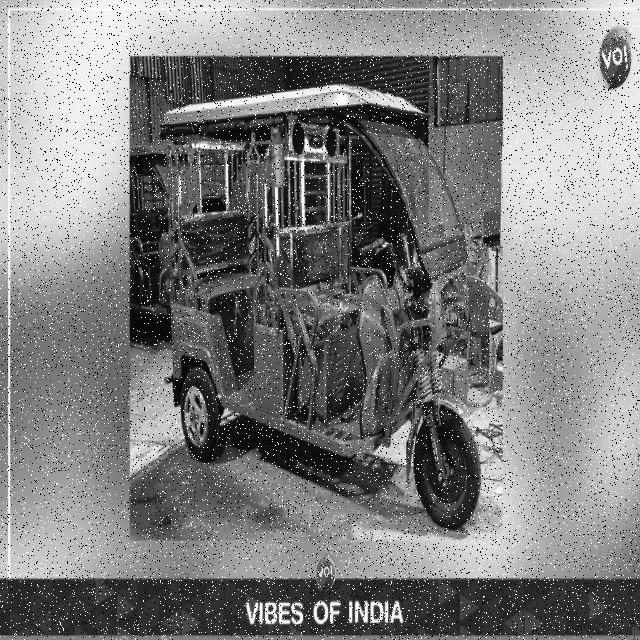Toto: (163, 81, 479, 527)
